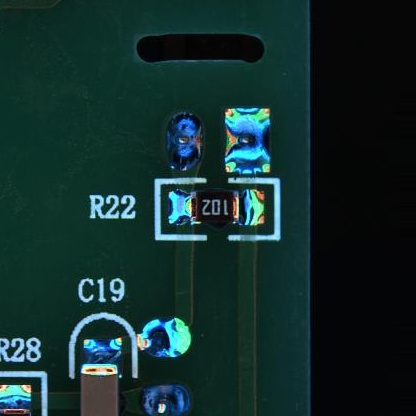spot: (222, 106, 273, 176), (162, 111, 207, 171), (135, 315, 191, 360), (140, 381, 191, 416)
